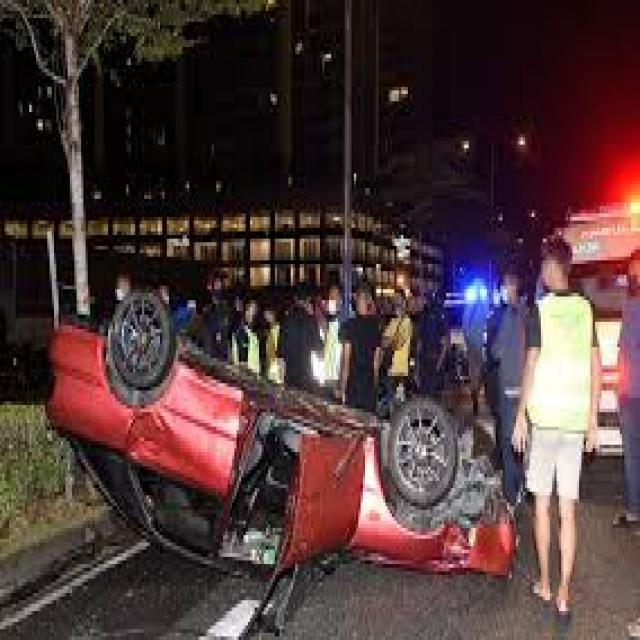accident: (35, 304, 519, 606)
